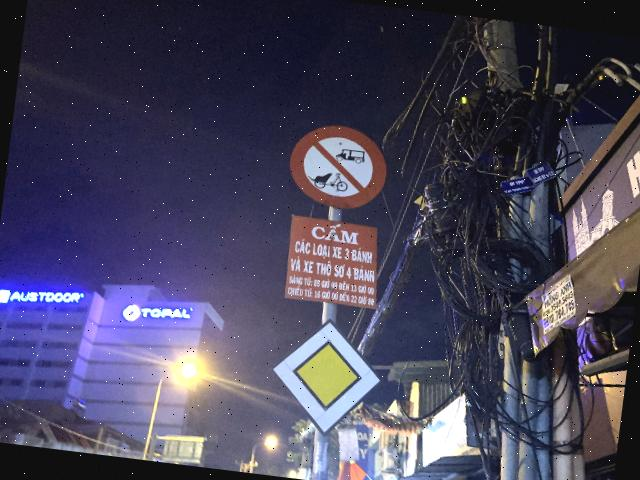bat-dau-duong-uu-tien: (264, 312, 388, 444)
cam-xe-3-banh-xe-tho-so-4-banh: (284, 119, 392, 215)
